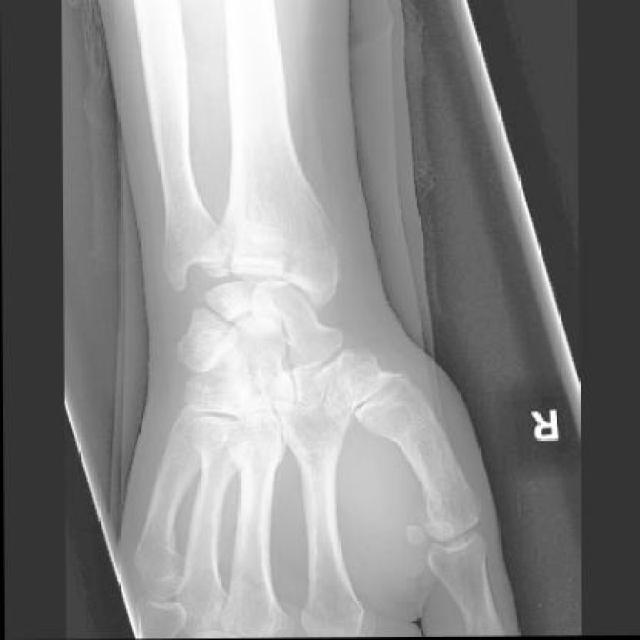Fracture: (275, 219, 348, 287)
